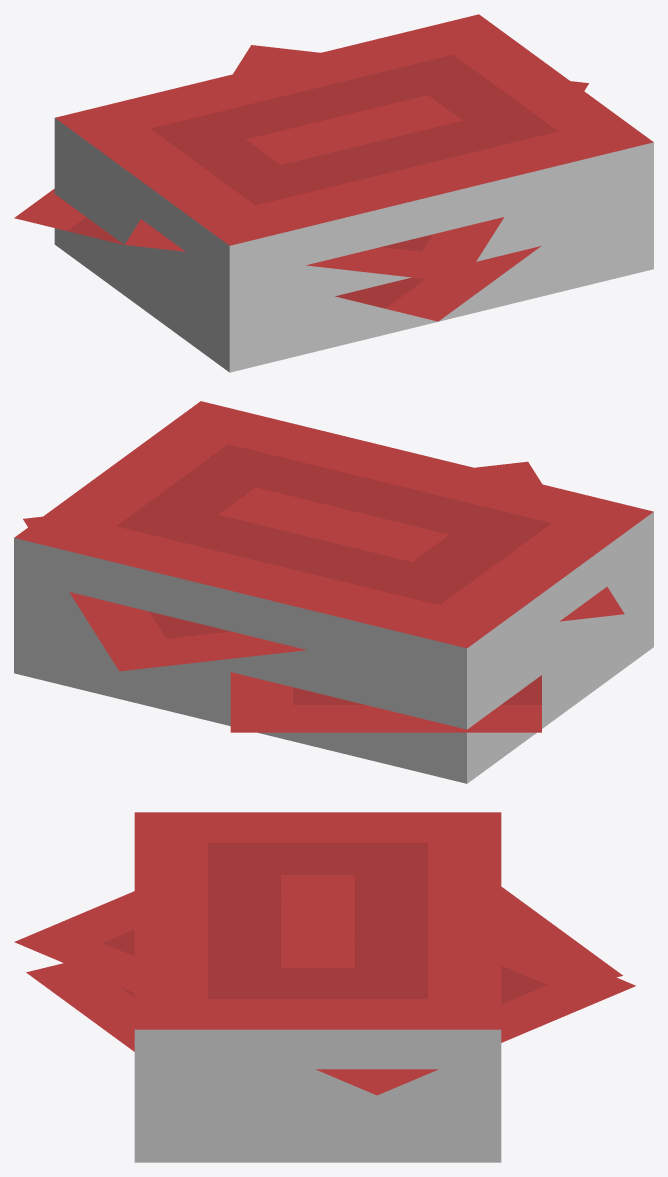
Rendered from cardDeck.fbx.
3 views of the same model, one above another, from view 1: azimuth 30°, elevation 25°; view 2: azimuth 150°, elevation 25°; view 3: azimuth 270°, elevation 25° (orthographic). The views are drawn at different scales.
Visible parts, largest first — view 1: cube, plane, plane_1; view 2: cube, plane_1, plane; view 3: cube, plane, plane_1.
Boxes of the visible parts, x1,y1,x2,y2 form: cube: [54, 14, 653, 372]; plane: [125, 45, 588, 283]; plane_1: [14, 188, 540, 321]; cube: [14, 401, 653, 783]; plane_1: [230, 672, 541, 732]; plane: [23, 461, 624, 671]; cube: [134, 812, 501, 1162]; plane: [14, 891, 635, 1095]; plane_1: [26, 886, 622, 1051].
Bounding box in the file's own units: 13.68 × 3.12 × 13.63.
Materials: 1 (1 with a texture image).
